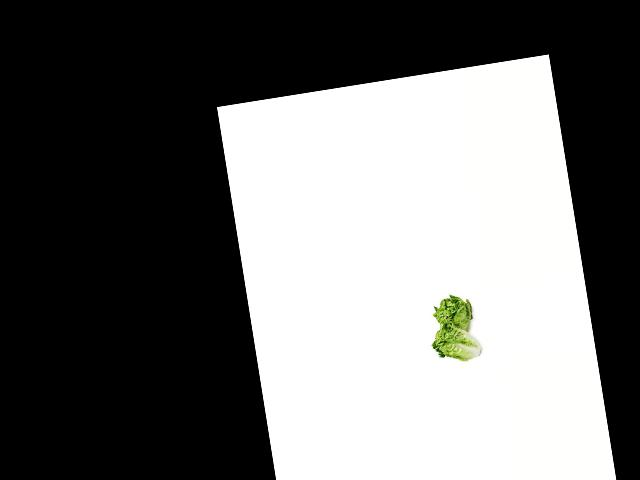lettuce: (430, 291, 481, 340)
